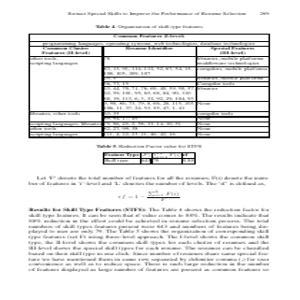table: (27, 33, 270, 142), (101, 151, 198, 167)
text: (25, 174, 273, 274), (64, 5, 269, 30)
